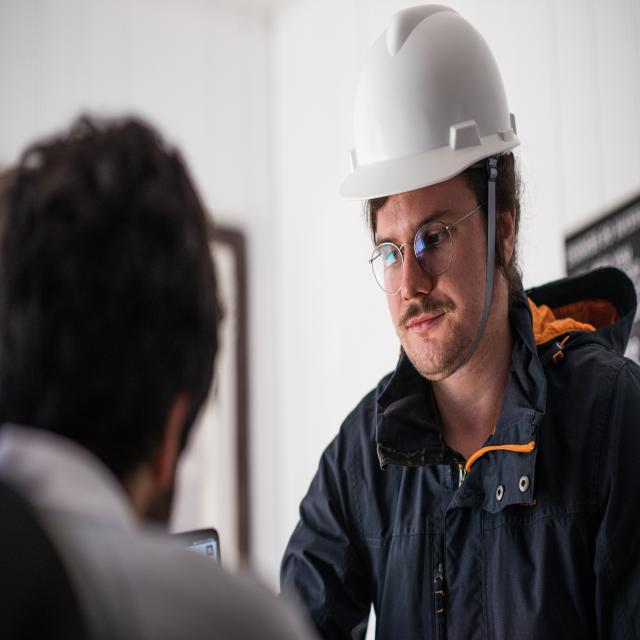capacete: (335, 0, 523, 205)
